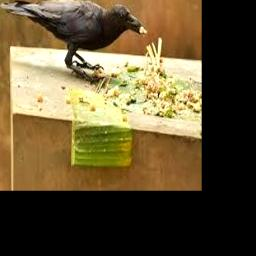Crow: (0, 0, 144, 75)
